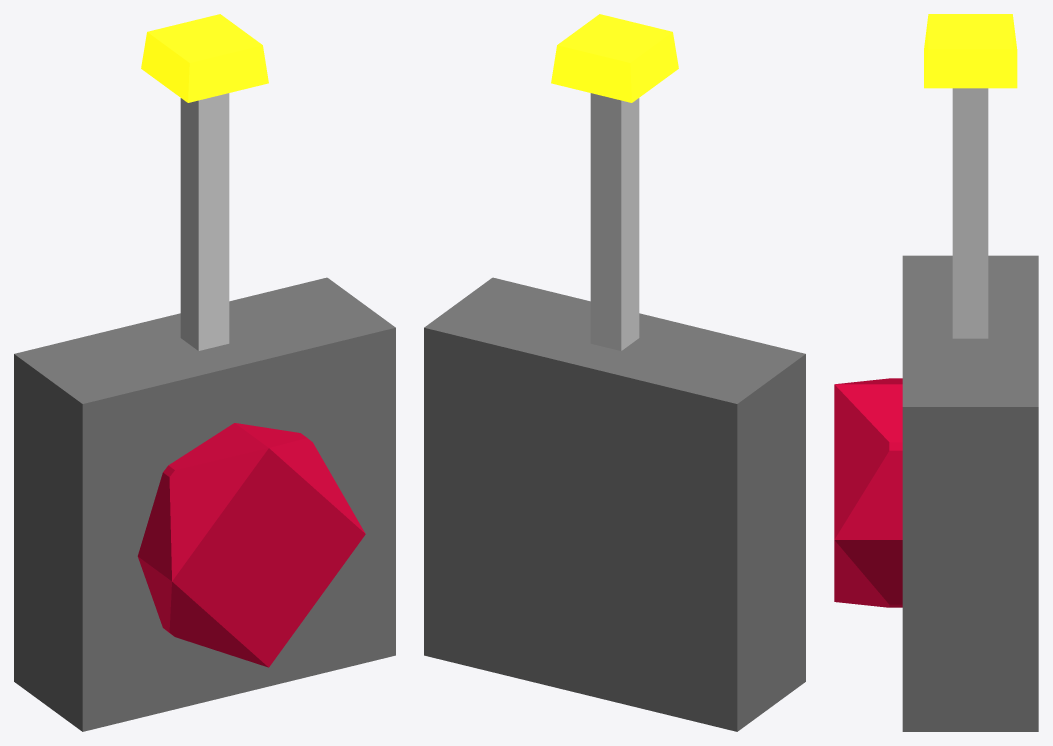
File: mando.fbx
3 views of the same model, side by side, from view 1: azimuth 30°, elevation 25°; view 2: azimuth 150°, elevation 25°; view 3: azimuth 270°, elevation 25° (orthographic).
Visible parts, largest first — view 1: mando; view 2: mando; view 3: mando.
Part boxes in pixels (bbox=[...]): mando: bbox=[14, 14, 395, 731]; mando: bbox=[424, 14, 805, 731]; mando: bbox=[834, 14, 1038, 731].
Size of the model in its own units: 200 by 384 by 114.
